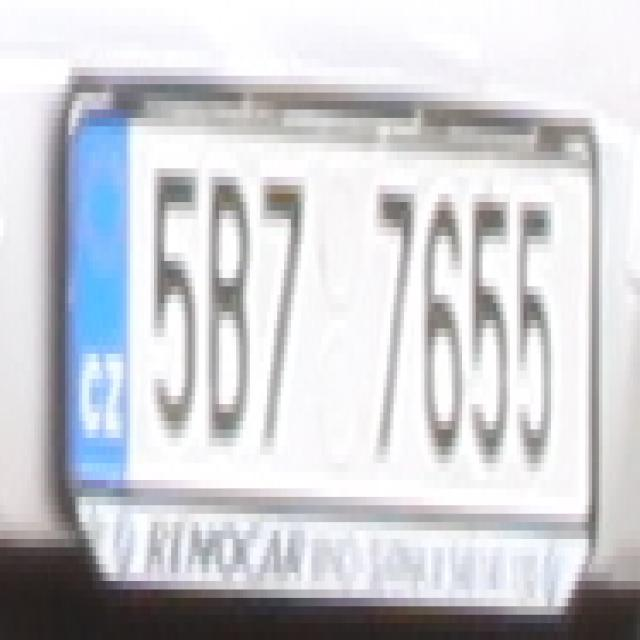5: (144, 143, 198, 430), (462, 177, 510, 463), (513, 185, 551, 480)
6: (421, 177, 462, 463)
7: (363, 177, 414, 463), (256, 168, 304, 446)
B: (202, 168, 250, 446)
